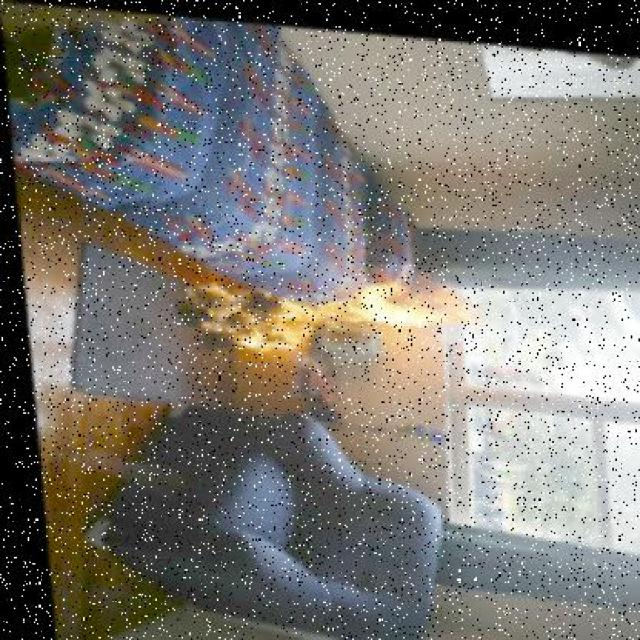fire: (172, 242, 468, 383)
